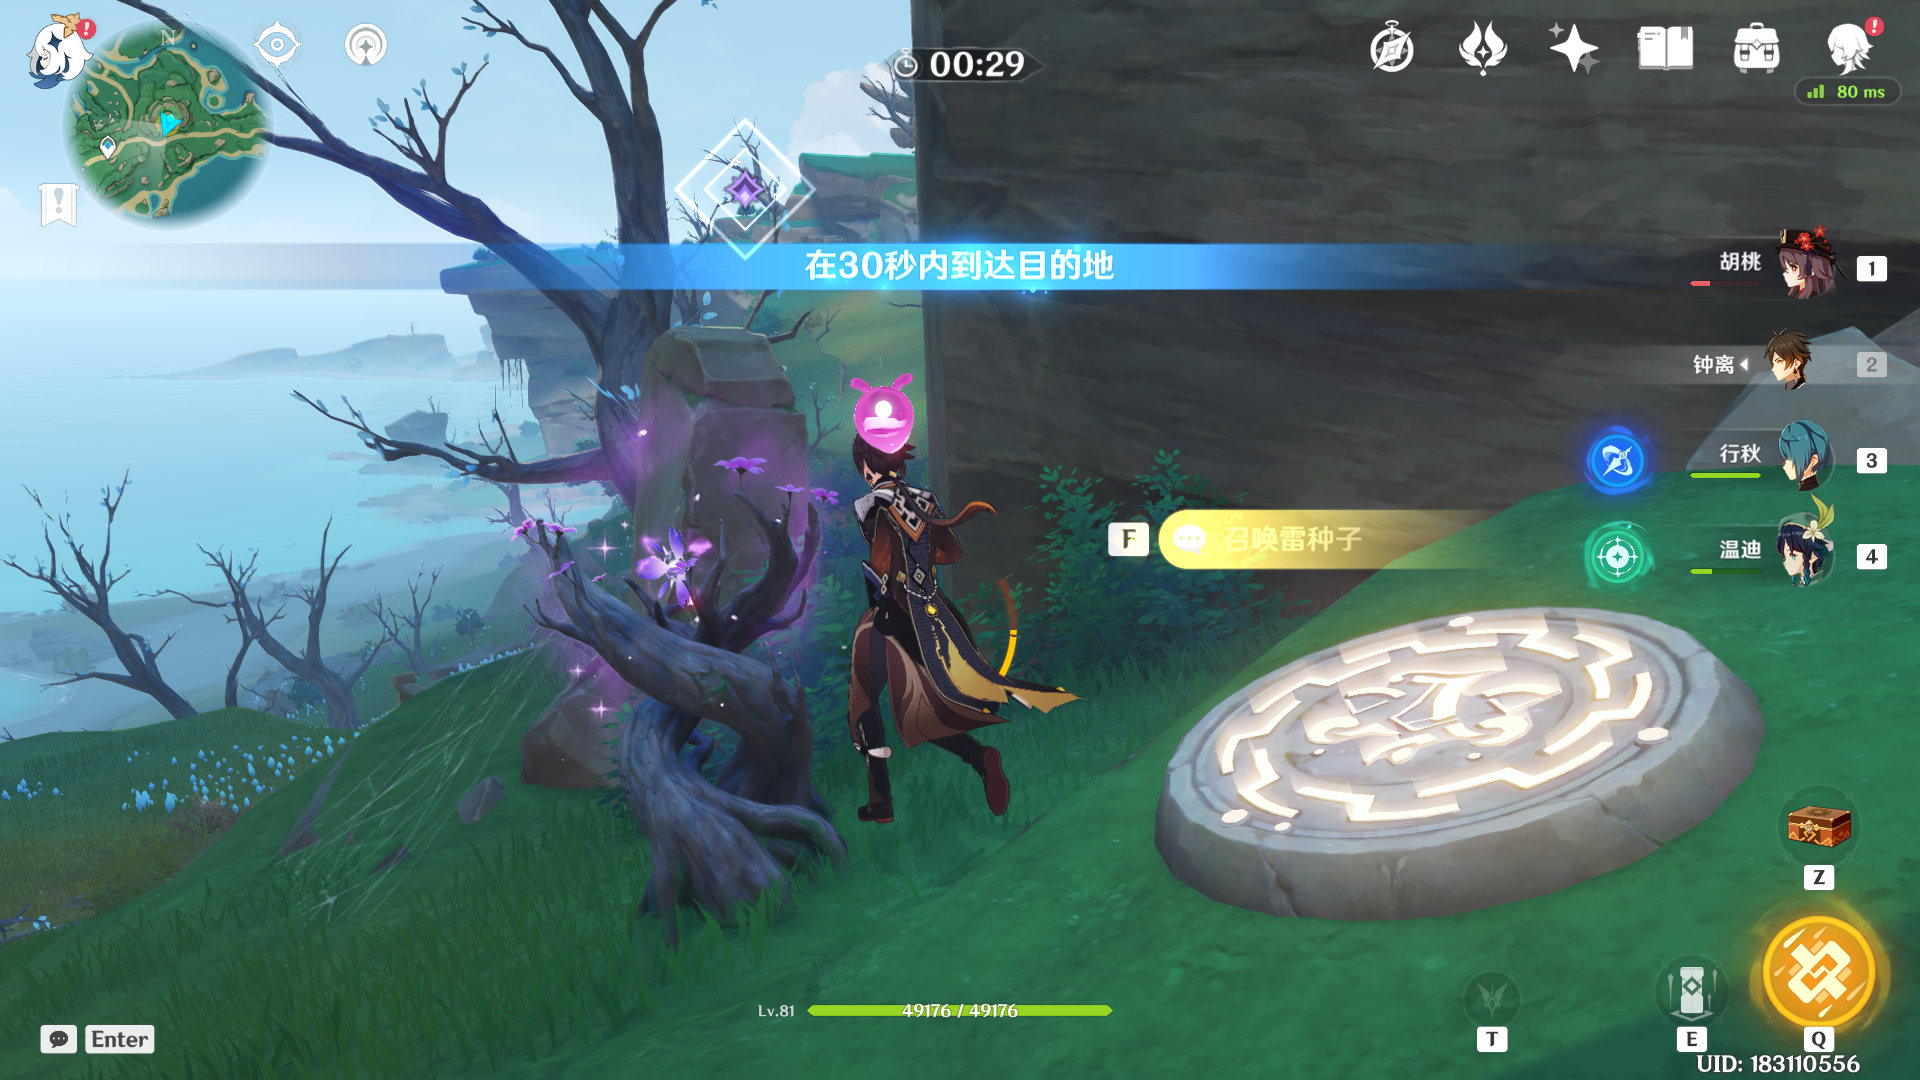character: (712, 364, 1104, 862)
